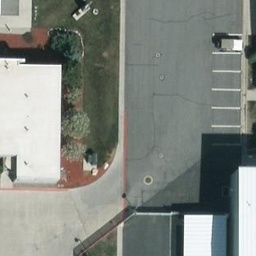car: (215, 33, 243, 52)
